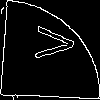V: (25, 24, 75, 61)
